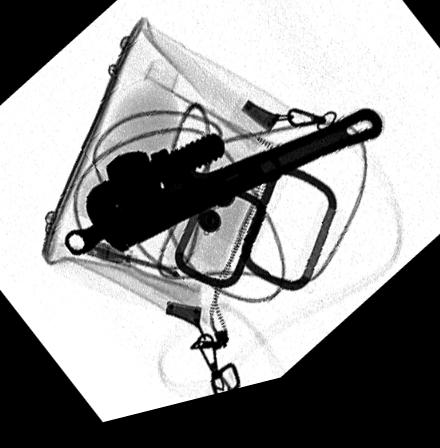Wrench: (84, 128, 381, 257)
